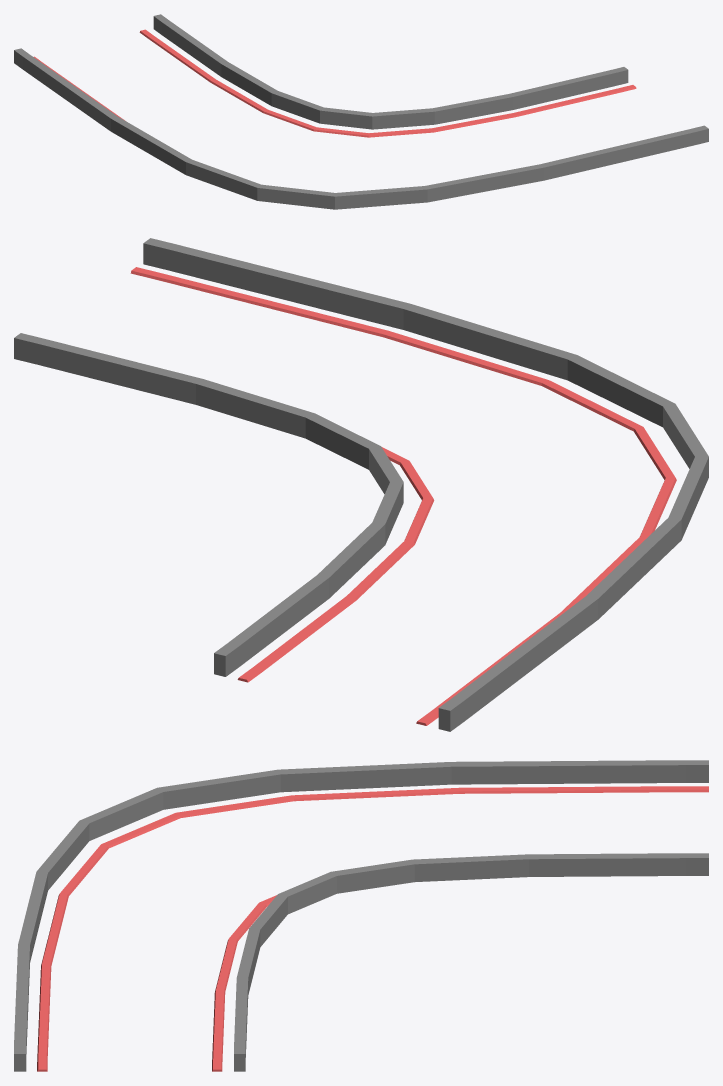
The model's file is Collection_007.glb.
3 views of the same model, one above another, from view 1: azimuth 30°, elevation 25°; view 2: azimuth 150°, elevation 25°; view 3: azimuth 270°, elevation 25° (orthographic). The views are drawn at different scales.
Visible parts, largest first — view 1: kartkids_base_trk_020_trn_90_l_1x1.024, kartkids_base_trk_020_trn_90_l_1x1.025, kartkids_base_trk_020_trn_90_l_1x1.026; view 2: kartkids_base_trk_020_trn_90_l_1x1.024, kartkids_base_trk_020_trn_90_l_1x1.025, kartkids_base_trk_020_trn_90_l_1x1.026; view 3: kartkids_base_trk_020_trn_90_l_1x1.024, kartkids_base_trk_020_trn_90_l_1x1.025, kartkids_base_trk_020_trn_90_l_1x1.026.
Part boxes in pixels (box(x1,y1,x2,y2)): kartkids_base_trk_020_trn_90_l_1x1.024: box(14, 48, 708, 209); kartkids_base_trk_020_trn_90_l_1x1.025: box(153, 14, 628, 129); kartkids_base_trk_020_trn_90_l_1x1.026: box(34, 29, 636, 137); kartkids_base_trk_020_trn_90_l_1x1.024: box(143, 238, 708, 731); kartkids_base_trk_020_trn_90_l_1x1.025: box(14, 333, 403, 676); kartkids_base_trk_020_trn_90_l_1x1.026: box(130, 267, 676, 725); kartkids_base_trk_020_trn_90_l_1x1.024: box(14, 760, 708, 1071); kartkids_base_trk_020_trn_90_l_1x1.025: box(234, 853, 708, 1071); kartkids_base_trk_020_trn_90_l_1x1.026: box(37, 786, 708, 1071).
Size of the model in its own units: 30 by 0.85 by 30.
